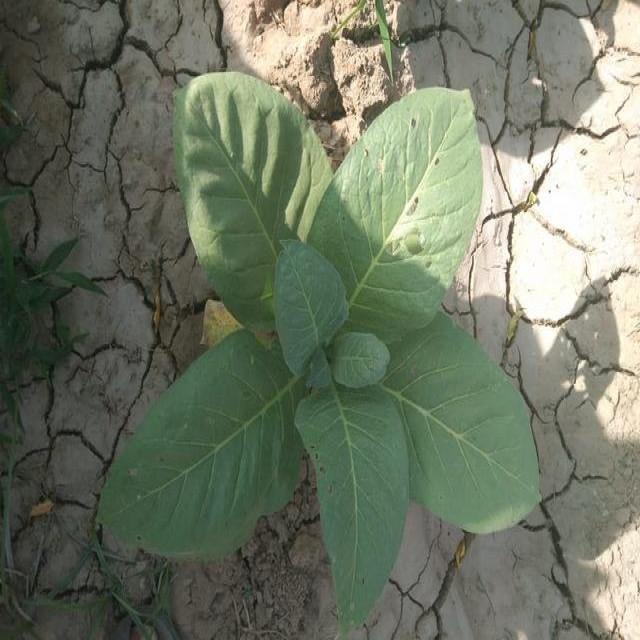crop: (97, 70, 540, 609)
